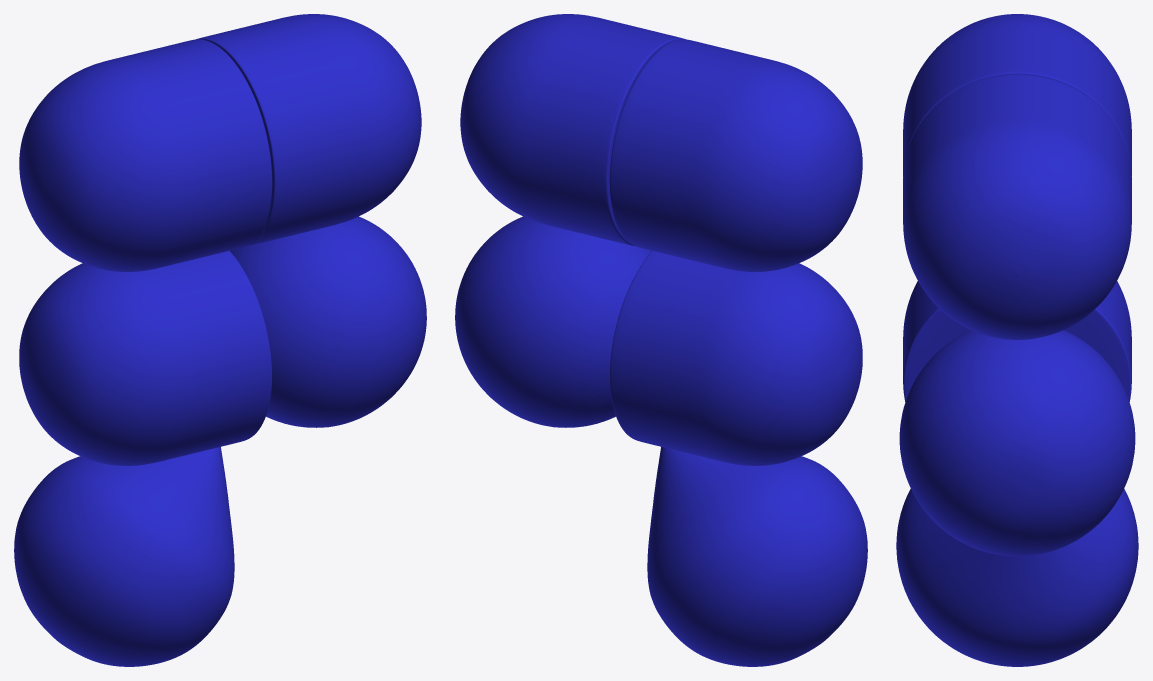
The model's file is figma-transformed.glb.
3 renders of one model, left to right at view 1: azimuth 30°, elevation 25°; view 2: azimuth 150°, elevation 25°; view 3: azimuth 270°, elevation 25°, orthographic. The views are drawn at different scales.
Parts seen in each view (by area): view 1: Cylinder.006; view 2: Cylinder.006; view 3: Cylinder.006.
Part boxes in pixels (box(x1,y1,x2,y2)): Cylinder.006: box(14, 14, 426, 666); Cylinder.006: box(455, 14, 867, 666); Cylinder.006: box(896, 14, 1138, 666).
Bounding box in the file's own units: 1.3 × 1.91 × 0.6666.
